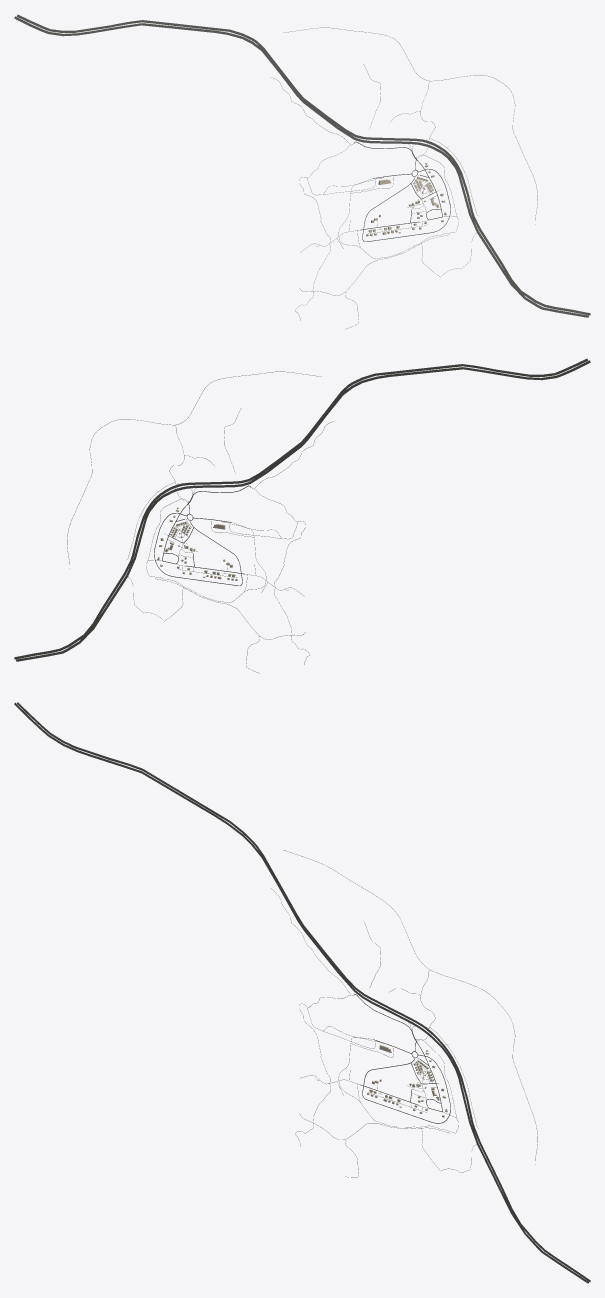
File: historic-palestine-08_25_3498_3193.glb
The picture shows the model from 3 angles, top to bottom: view 1: azimuth 30°, elevation 25°; view 2: azimuth 150°, elevation 25°; view 3: azimuth 330°, elevation 25°; orthographic projection.
Parts seen in each view (by area): view 1: Road דרך הלווים.001, Road דרך הלווים; view 2: Road דרך הלווים.001, Road דרך הלווים; view 3: Road דרך הלווים, Road דרך הלווים.001.
Boxes of the visible parts, left/top/right/bottom form: Road דרך הלווים.001: left=17, top=14, right=590, bottom=315; Road דרך הלווים: left=14, top=16, right=588, bottom=317; Road דרך הלווים.001: left=14, top=358, right=587, bottom=659; Road דרך הלווים: left=16, top=360, right=590, bottom=661; Road דרך הלווים: left=14, top=702, right=588, bottom=1283; Road דרך הלווים.001: left=16, top=702, right=590, bottom=1282.
Bounding box in the file's own units: 3211 × 2354 × 8.7.
